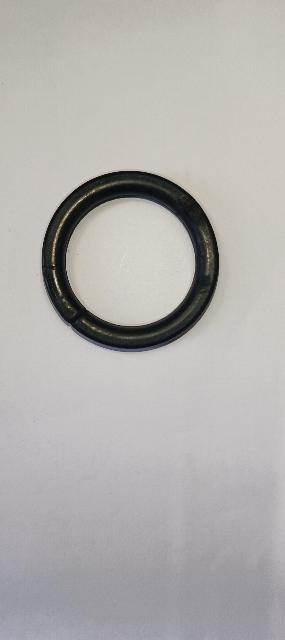4: (173, 188, 211, 232), (190, 270, 215, 299), (41, 261, 59, 274)
crack: (59, 302, 92, 332)
